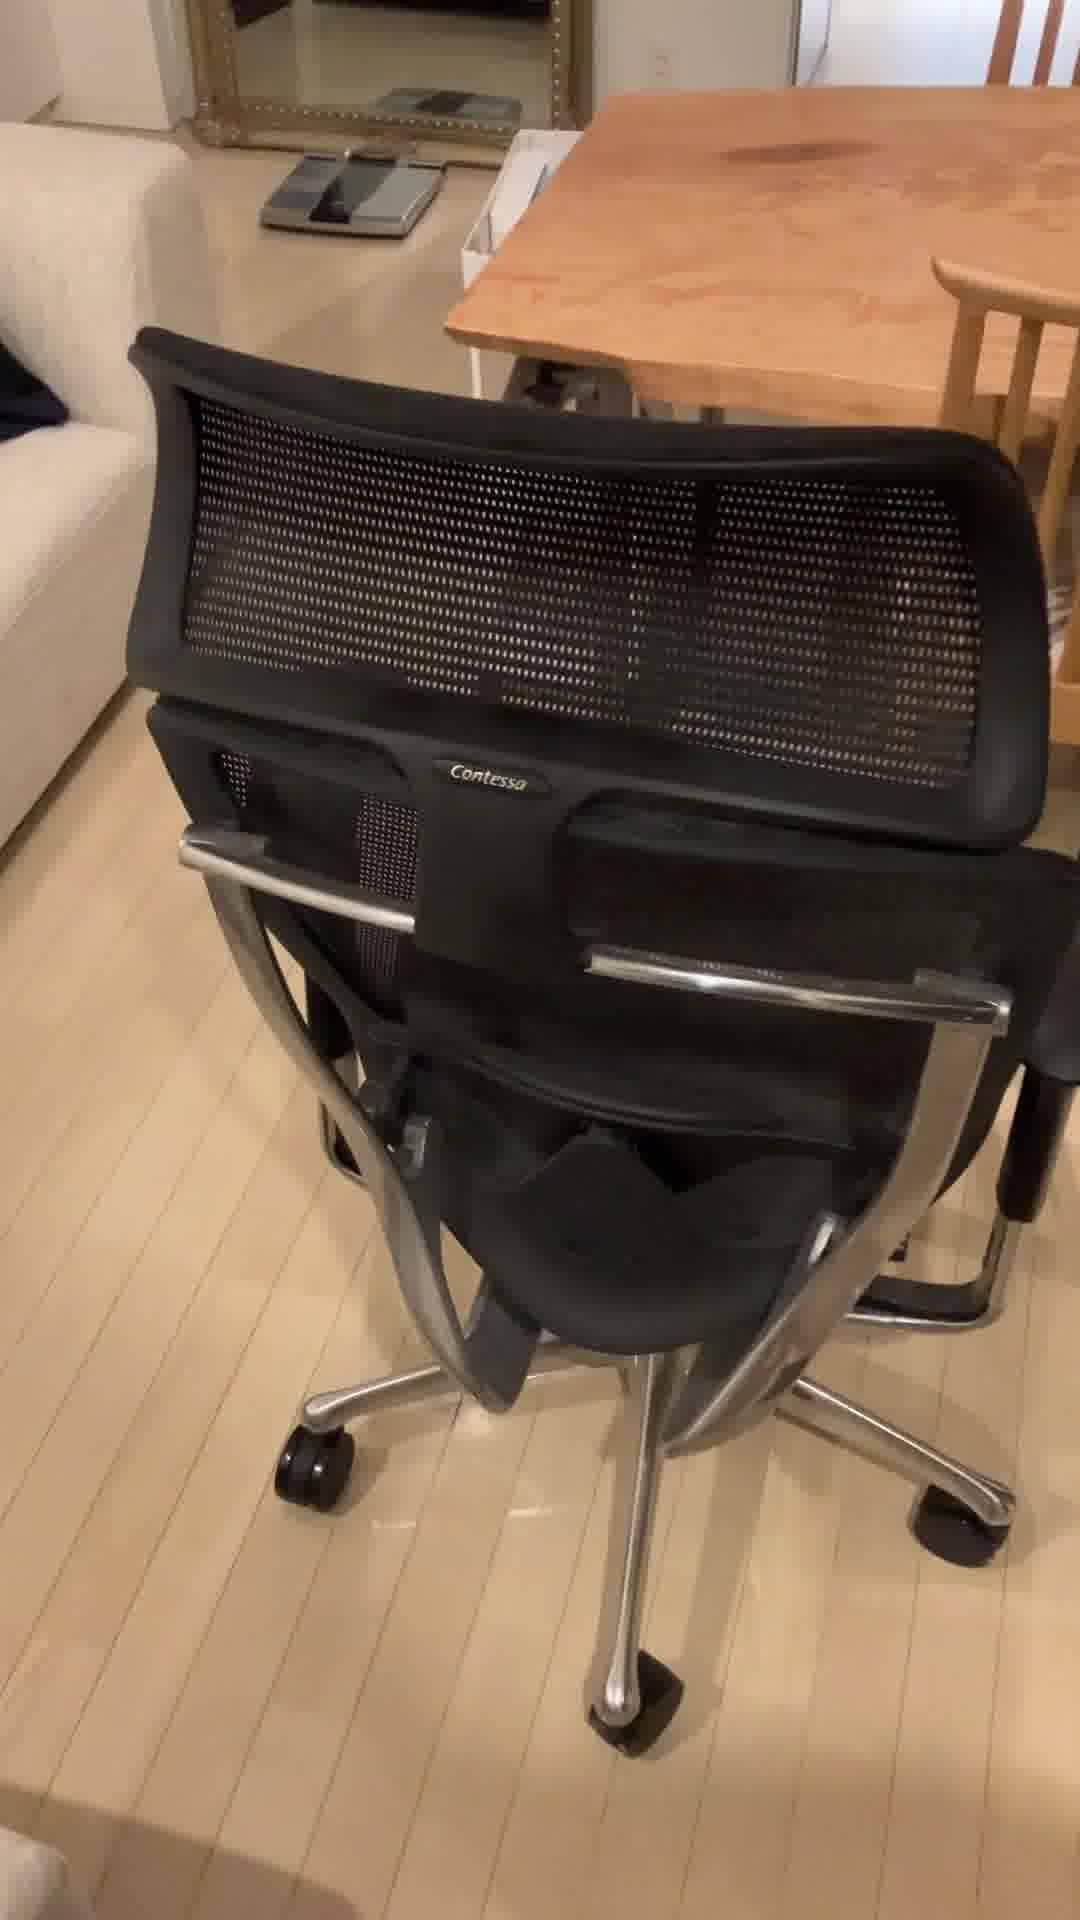okamura-contessa: (113, 310, 1080, 1764)
